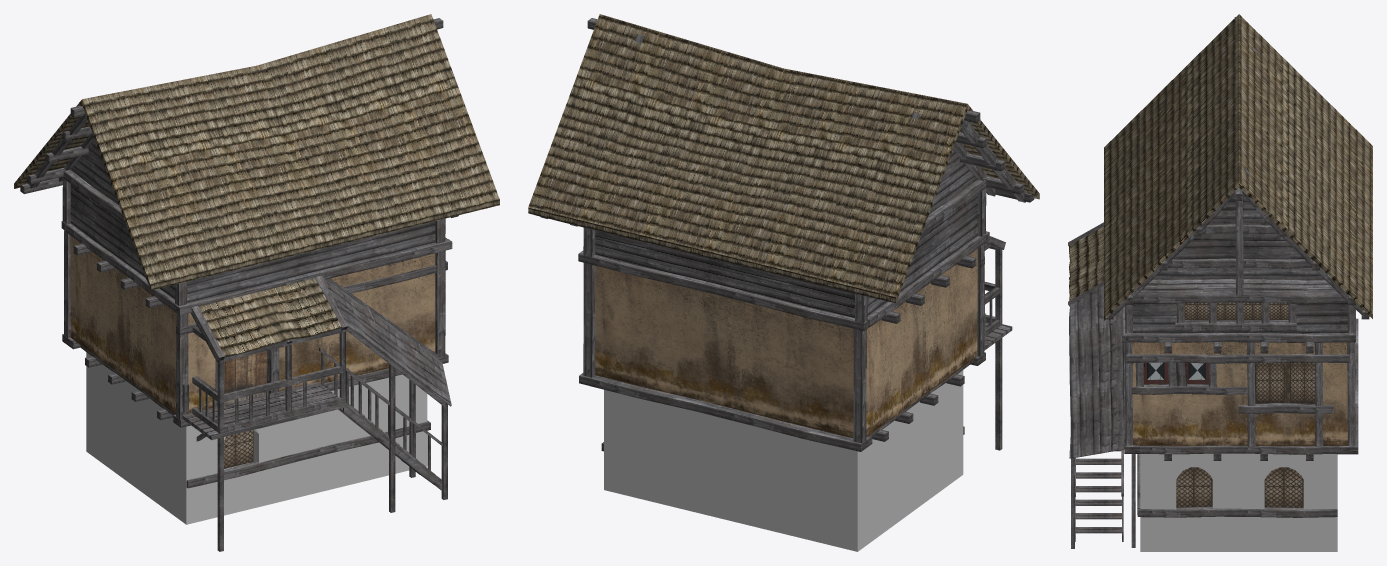
Rendered from v3_house1.dae.
3 renders of one model, left to right at view 1: azimuth 30°, elevation 25°; view 2: azimuth 150°, elevation 25°; view 3: azimuth 270°, elevation 25°, orthographic. The views are drawn at different scales.
Visible parts, largest first — view 1: roof_01, woodPlanks, s1, conj_dirt_01, doorwindow_set; view 2: roof_01, conj_dirt_01, s1, woodPlanks; view 3: roof_01, woodPlanks, s1, conj_dirt_01, doorwindow_set.
Boxes of the visible parts, x1,y1,x2,y2 form: roof_01: [14, 14, 499, 356]; woodPlanks: [20, 18, 458, 551]; s1: [86, 352, 427, 524]; conj_dirt_01: [70, 236, 435, 414]; doorwindow_set: [224, 351, 267, 468]; roof_01: [528, 14, 1039, 302]; conj_dirt_01: [595, 249, 977, 437]; s1: [604, 370, 963, 551]; woodPlanks: [536, 18, 1034, 451]; roof_01: [1069, 14, 1372, 320]; woodPlanks: [1068, 17, 1369, 548]; s1: [1140, 453, 1337, 551]; conj_dirt_01: [1132, 333, 1347, 446]; doorwindow_set: [1143, 302, 1315, 507].
Bounding box in the file's own units: 9.42 × 9.91 × 6.84.
